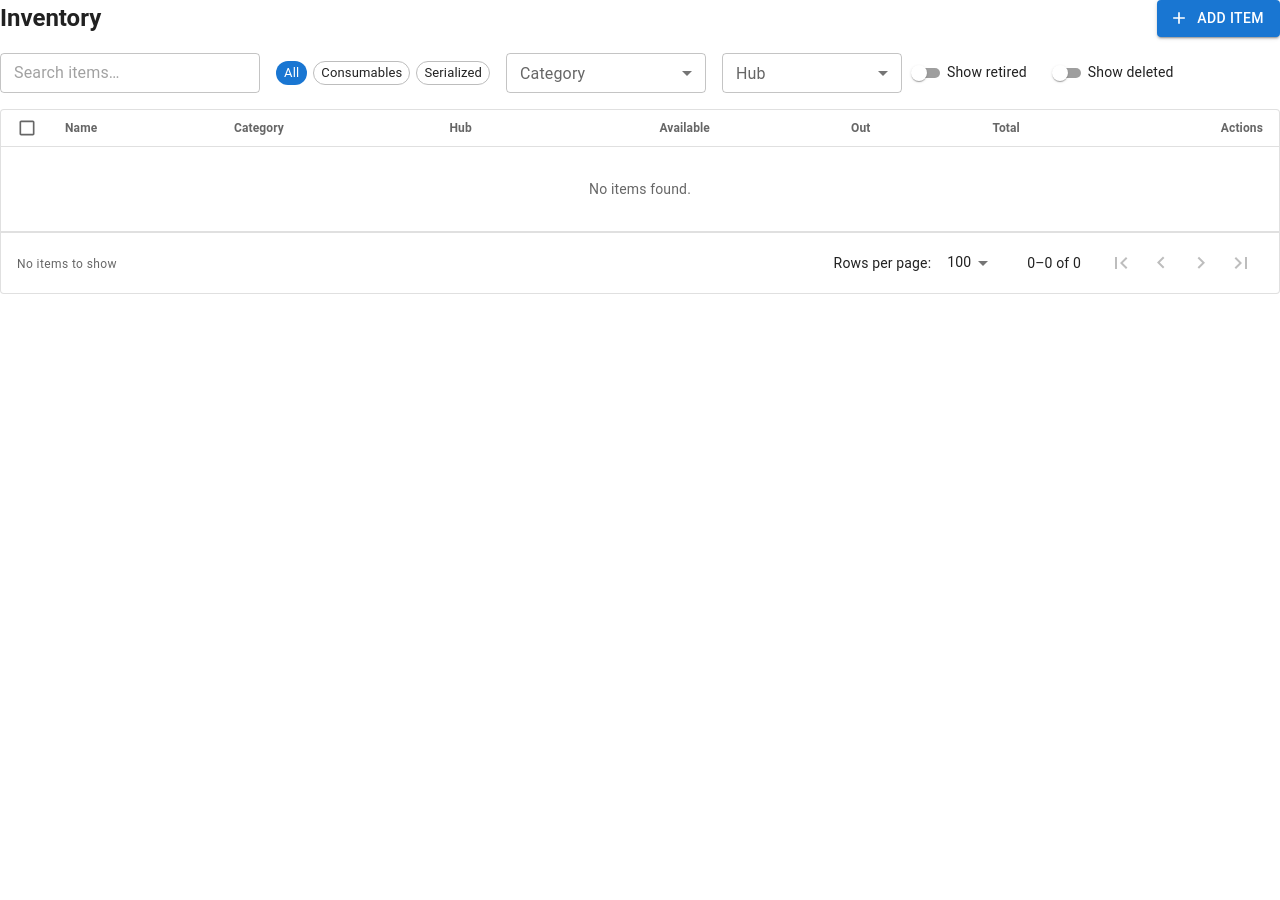
Test: UXP-6 (6c): item form — grammar › opens as "Add item" on EntityFormDialog: the Paper is the form, legend + required marks, pinned Cancel / Save & add another / Add item
Expected: the text "No items found." is shown, [1, 146, 1279, 231]
Click the button "Add Item": (1219, 18) [1157, 0, 1279, 36]
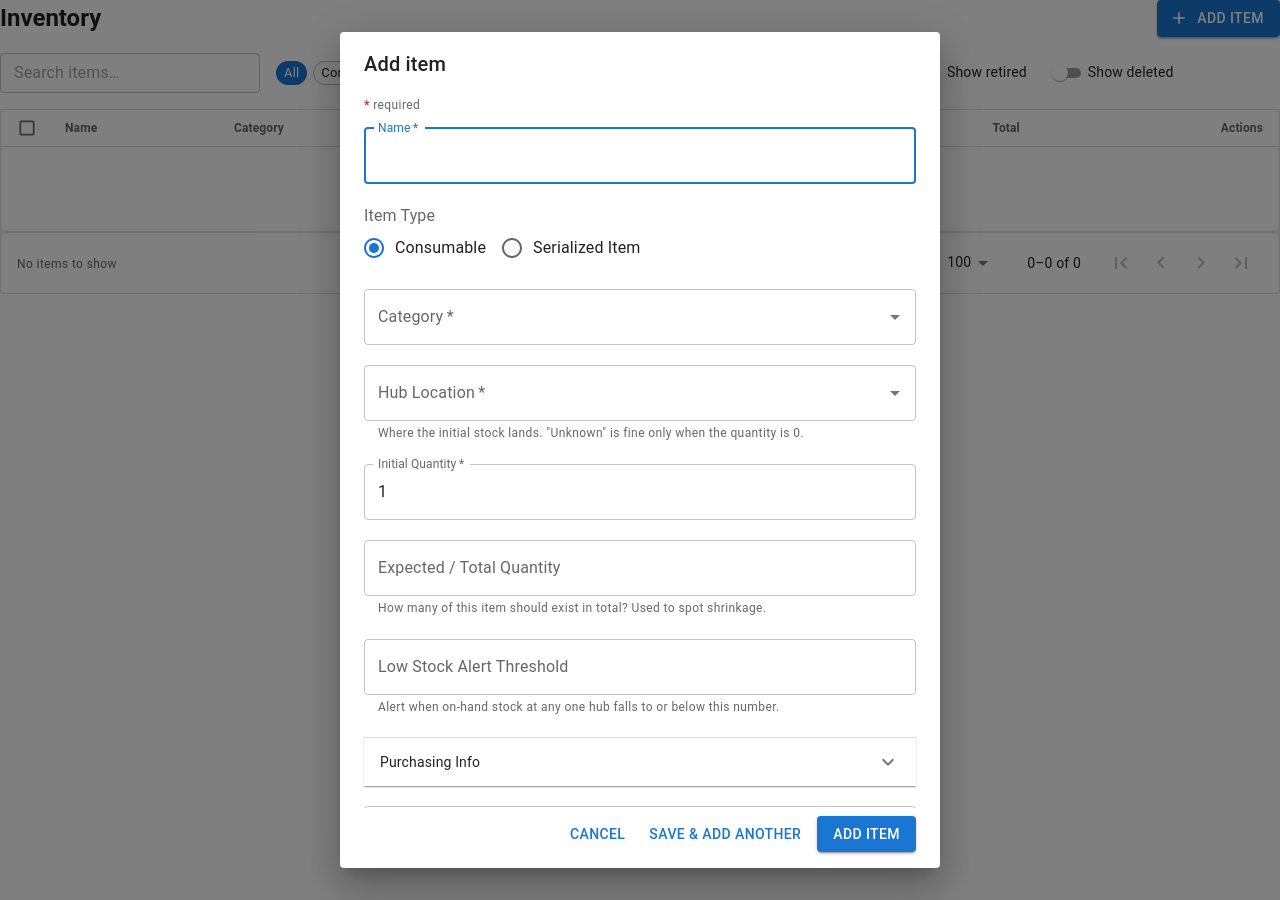
Expected: the text "required" is shown, [370, 98, 420, 112]
Expected: the dropdown labelled "Hub Location *" is shown, [373, 374, 877, 412]
Expected: the number field labelled "Initial Quantity *" is shown, [364, 464, 916, 520]
